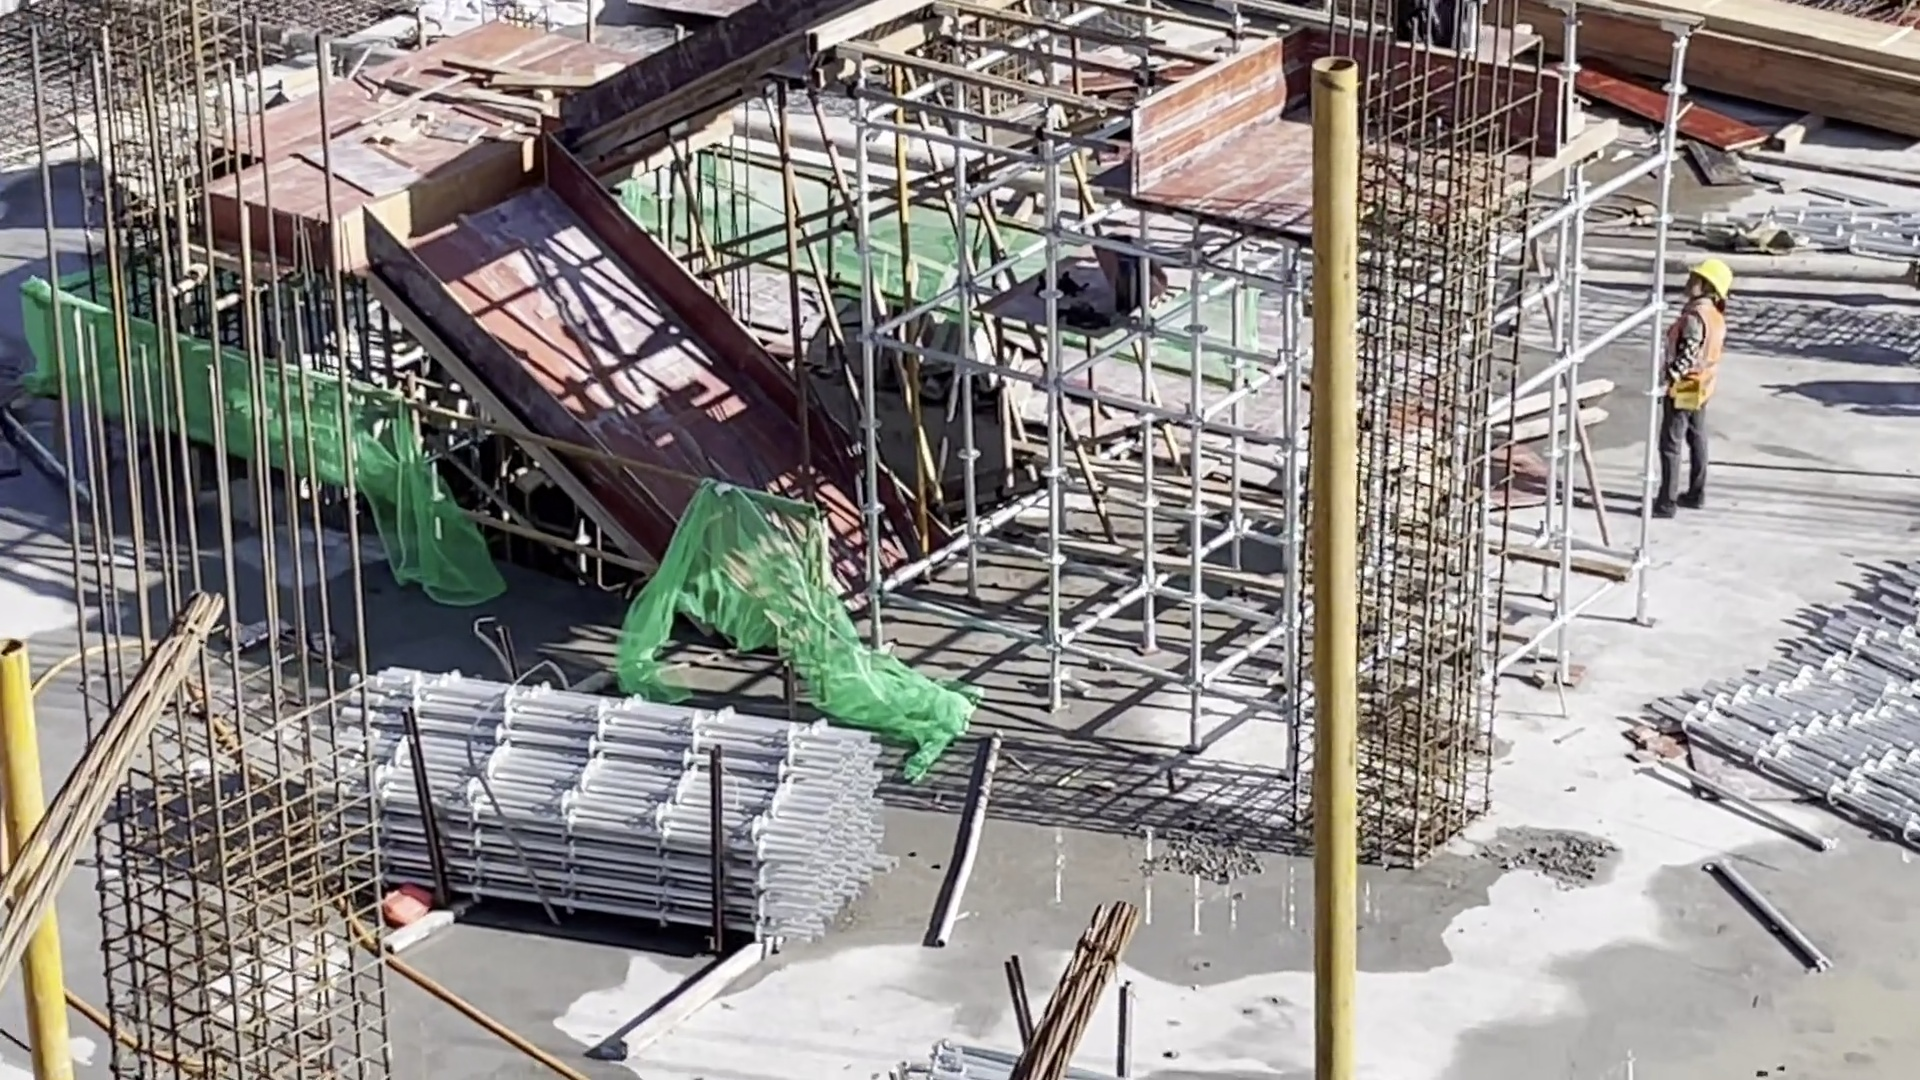helmet: (1680, 258, 1729, 293)
person: (1664, 256, 1725, 516)
scaffold: (318, 665, 902, 938), (1648, 567, 1920, 863)
vest: (1666, 303, 1722, 410)
wood: (1506, 2, 1920, 137)
